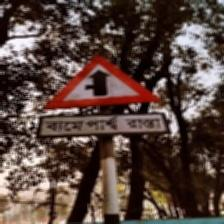Side-road-left: (38, 53, 166, 140)
